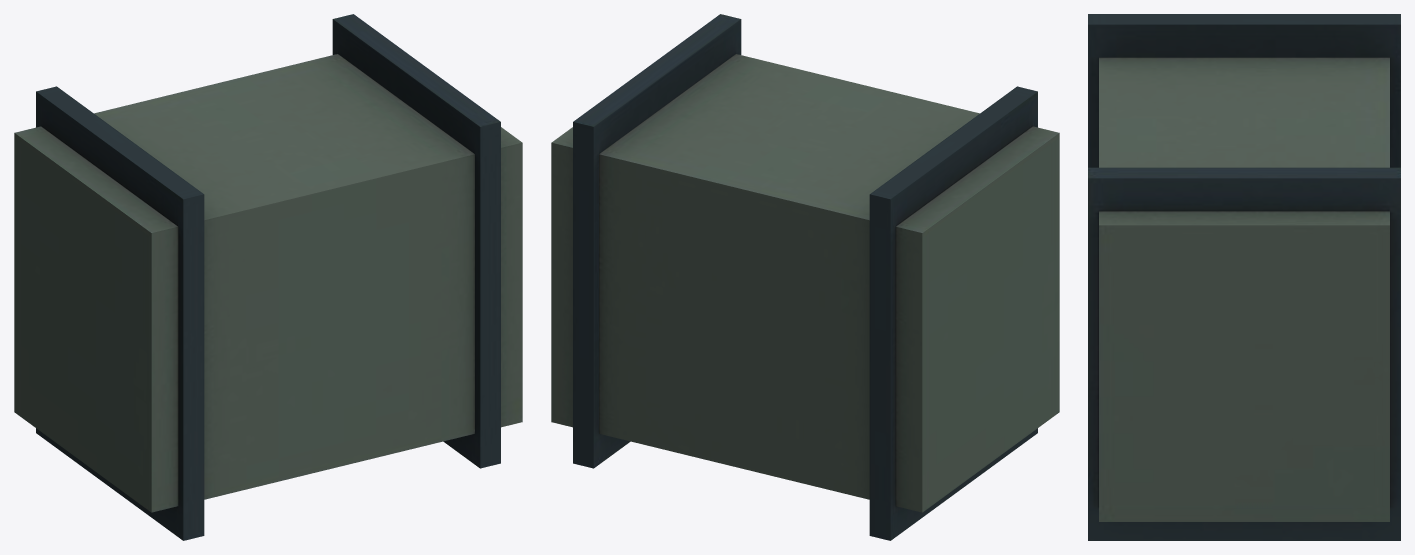
File: crate.glb
3 views of the same model, side by side, from view 1: azimuth 30°, elevation 25°; view 2: azimuth 150°, elevation 25°; view 3: azimuth 270°, elevation 25° (orthographic). The views are drawn at different scales.
Visible parts, largest first — view 1: body; view 2: body; view 3: body.
Boxes of the visible parts, x1=… form: body: x1=14, y1=14, x2=522, y2=540; body: x1=551, y1=14, x2=1059, y2=540; body: x1=1088, y1=14, x2=1400, y2=540.
Bounding box in the file's own units: 1.25 × 1.1 × 0.86.
1 material, 1 textured.
